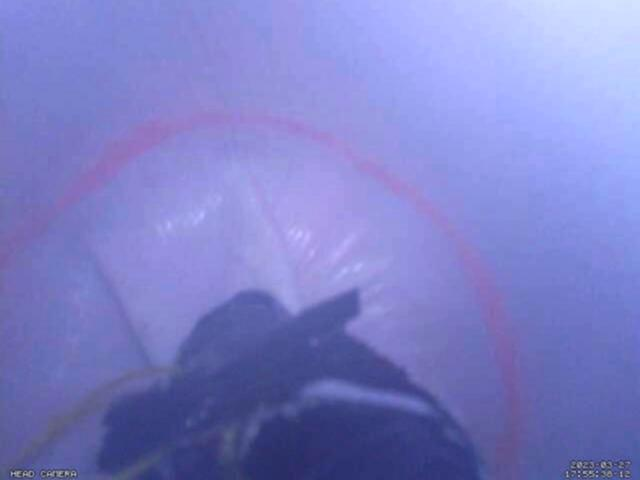head: (0, 109, 530, 480)
